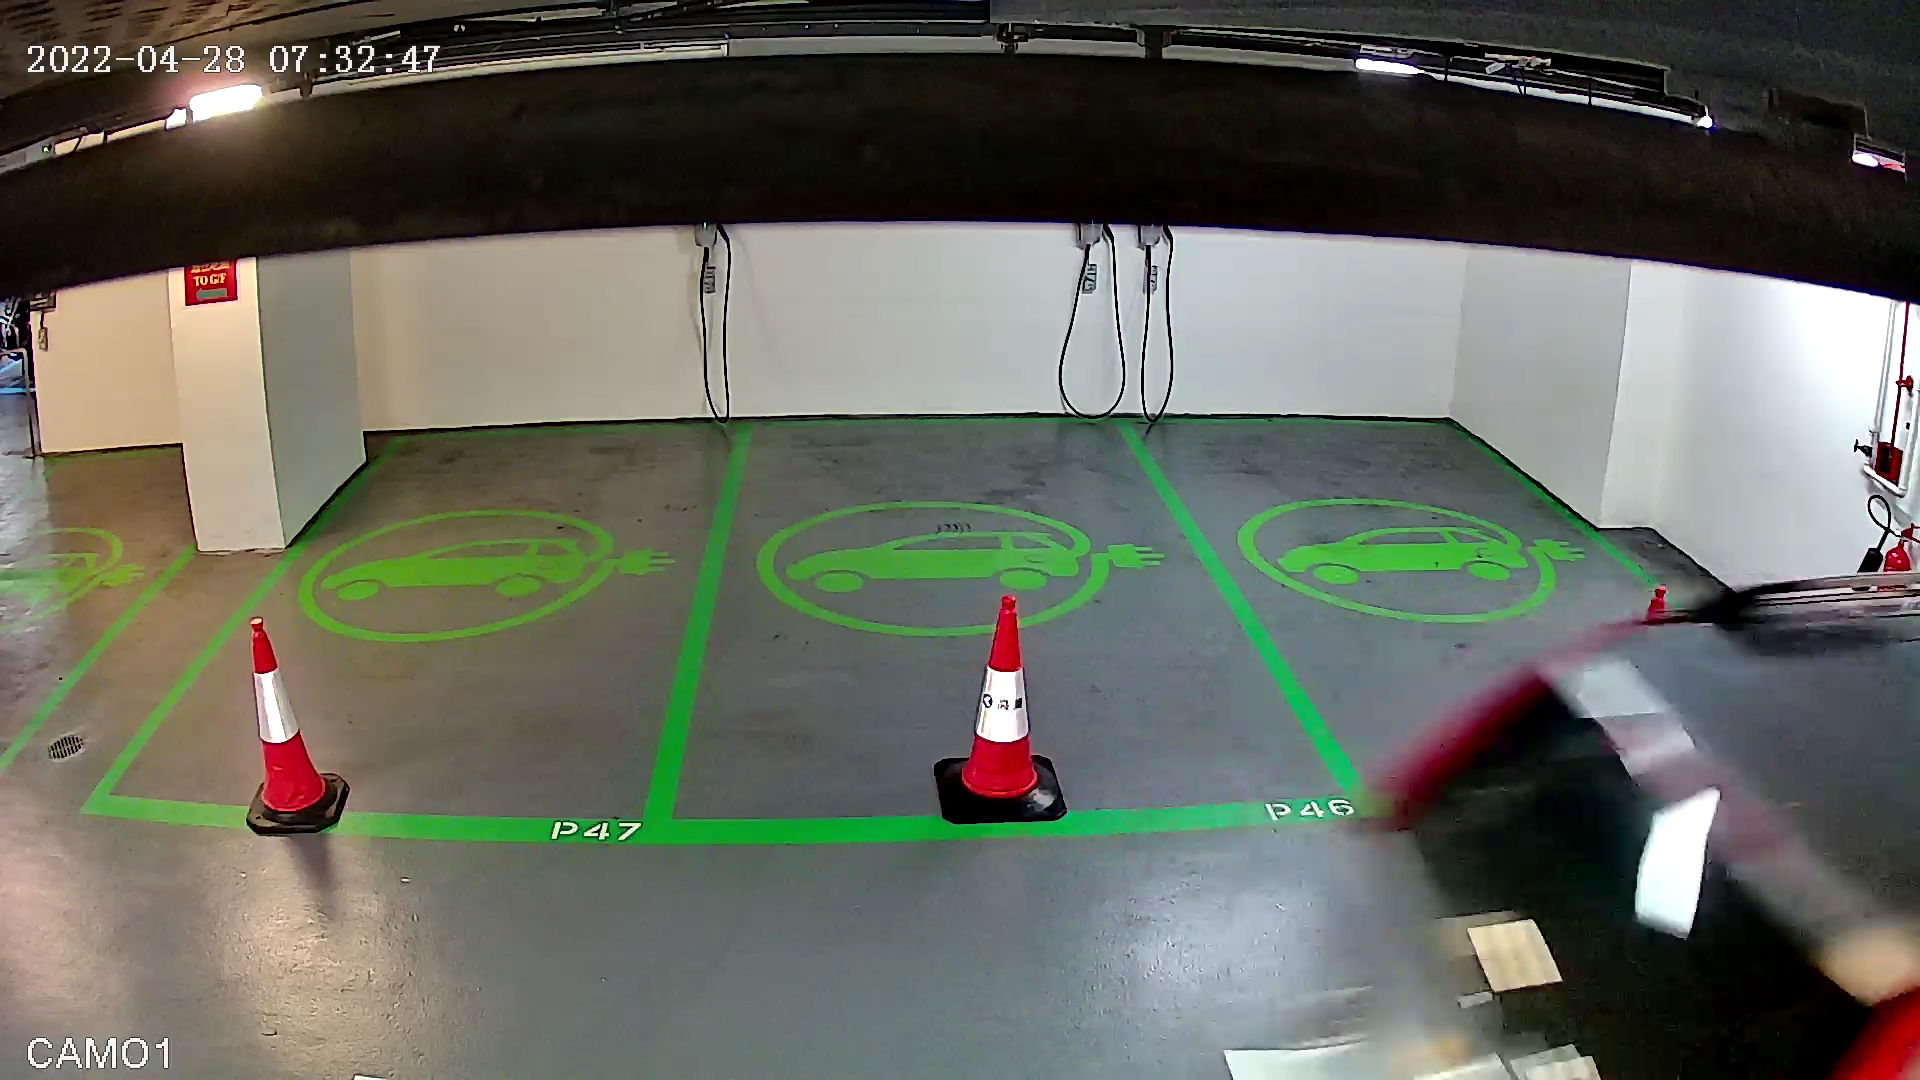space: (609, 345, 1408, 891), (1097, 361, 1854, 872), (73, 406, 766, 872)
